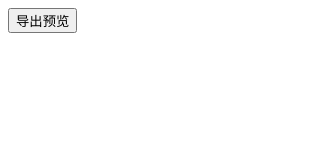
Test: Nightflight theme and responsive surfaces › shows one inline panel at wide widths and adapts to a resize
The image size is (320, 160).
Later steps or results of the test are not shown.
Click the button "导出预览".
click(43, 20)  # box [8,8,77,33]
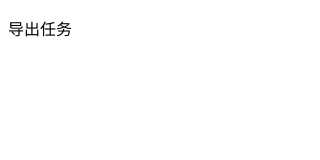
Now the text "导出任务" is shown once, box [8,21,72,38]
